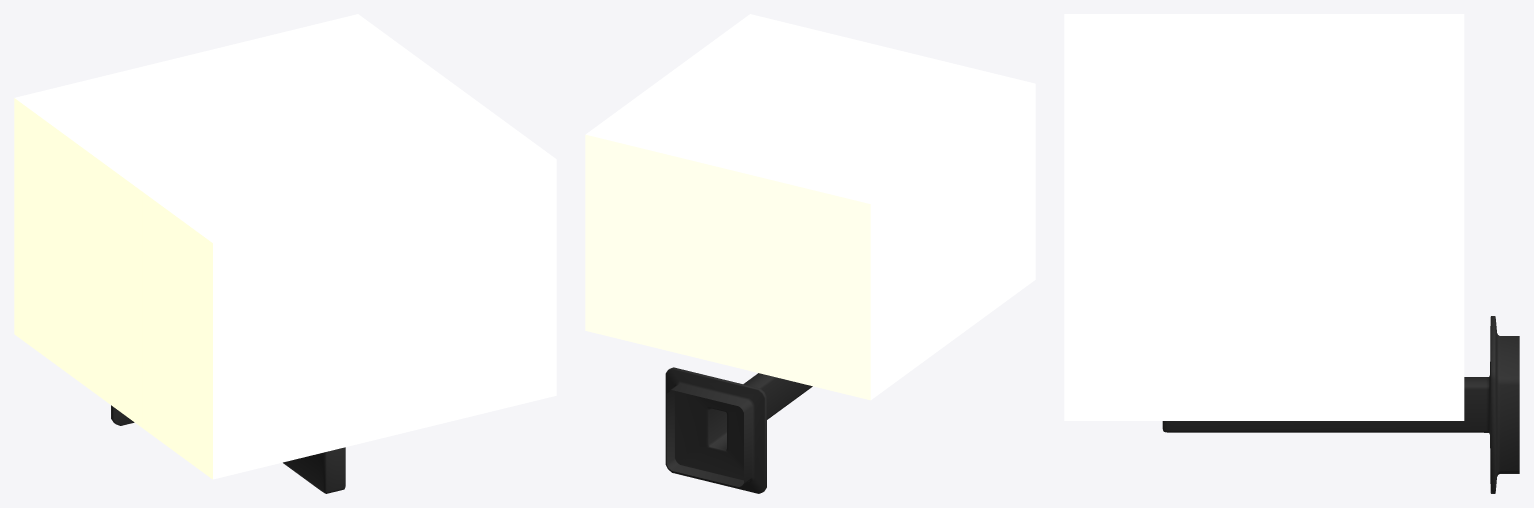
Rendered from wallight.gltf.
3 views of the same model, side by side, from view 1: azimuth 30°, elevation 25°; view 2: azimuth 150°, elevation 25°; view 3: azimuth 270°, elevation 25° (orthographic). The views are drawn at different scales.
Parts seen in each view (by area): view 1: Light_3; view 2: Light_3; view 3: Light_3.
Part boxes in pixels (x1,y1,x2,y2): Light_3: (14,14,556,493); Light_3: (585,14,1035,493); Light_3: (1064,14,1519,493).
Size of the model in its own units: 57.02 by 58.18 by 64.9.
Materials: 1 (1 with a texture image).
